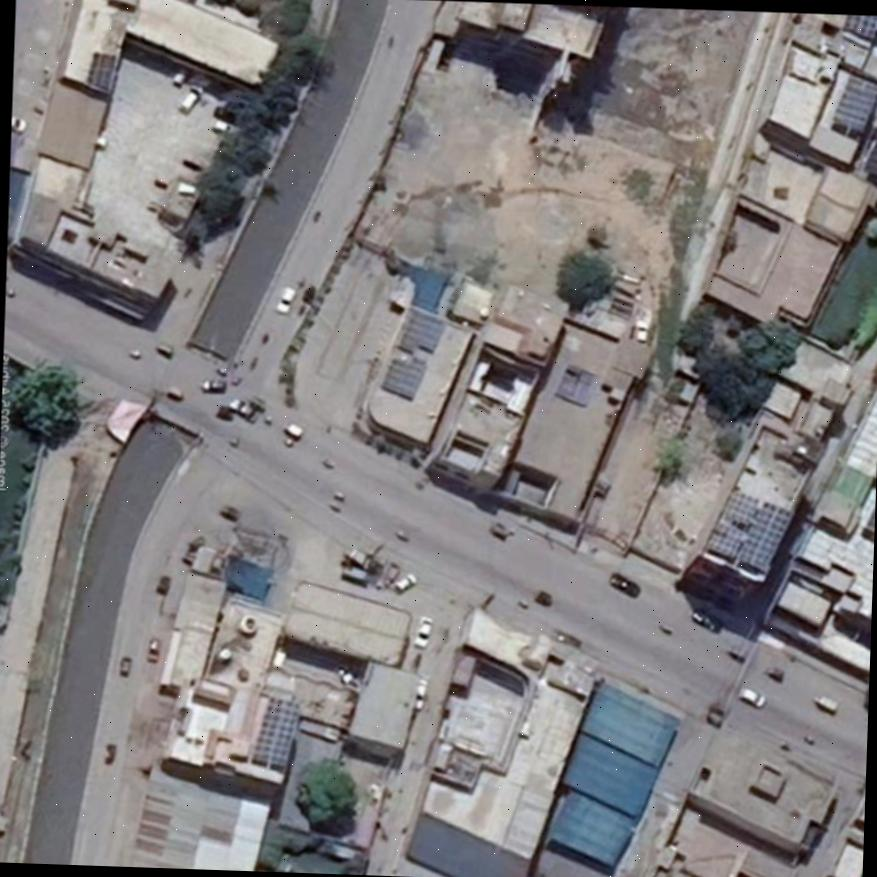Solarpanel: (704, 491, 791, 568), (251, 698, 301, 764), (831, 76, 877, 128), (397, 309, 444, 355), (382, 354, 425, 398), (90, 52, 118, 92), (844, 15, 877, 39), (864, 135, 877, 173)
